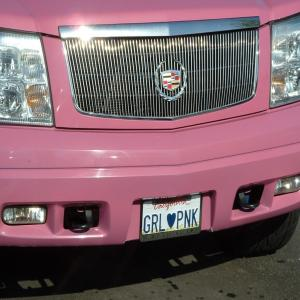Vehicle-registration-plate: (140, 195, 204, 244)
